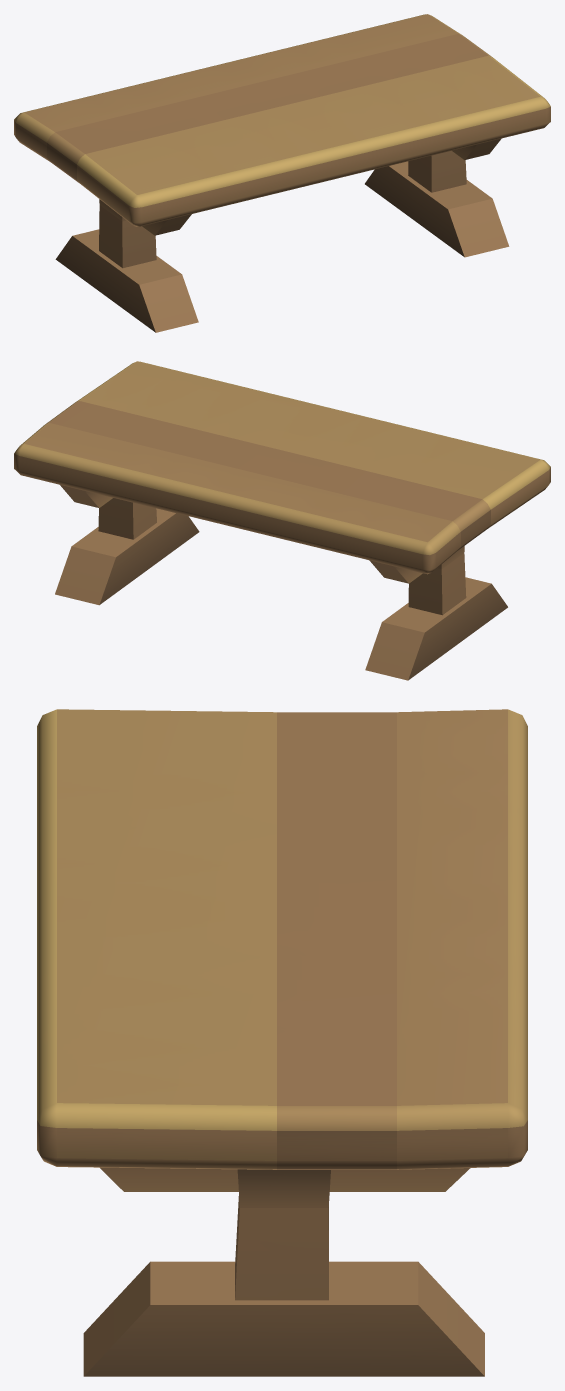
Rendered from table2_LOD_setup.fbx.
3 views of the same model, one above another, from view 1: azimuth 30°, elevation 25°; view 2: azimuth 150°, elevation 25°; view 3: azimuth 270°, elevation 25° (orthographic). The views are drawn at different scales.
Visible parts, largest first — view 1: table2_LOD0; view 2: table2_LOD0; view 3: table2_LOD0.
Part boxes in pixels (x1,y1,x2,y2): table2_LOD0: (14,14,550,332); table2_LOD0: (14,361,550,680); table2_LOD0: (37,709,527,1376).
Size of what is drawn, in the model's own units: 203 by 68.43 by 102.
